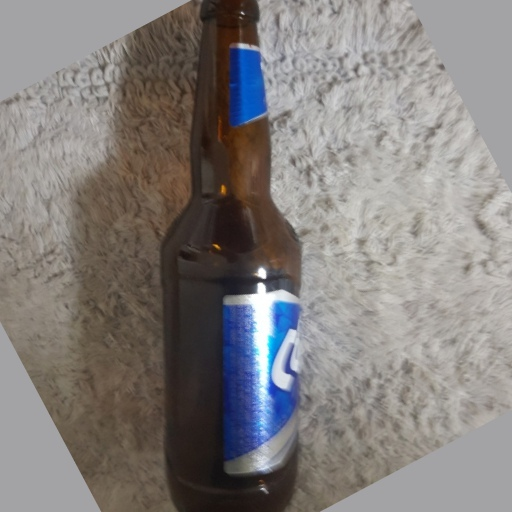Glass_1: (161, 1, 305, 512)
